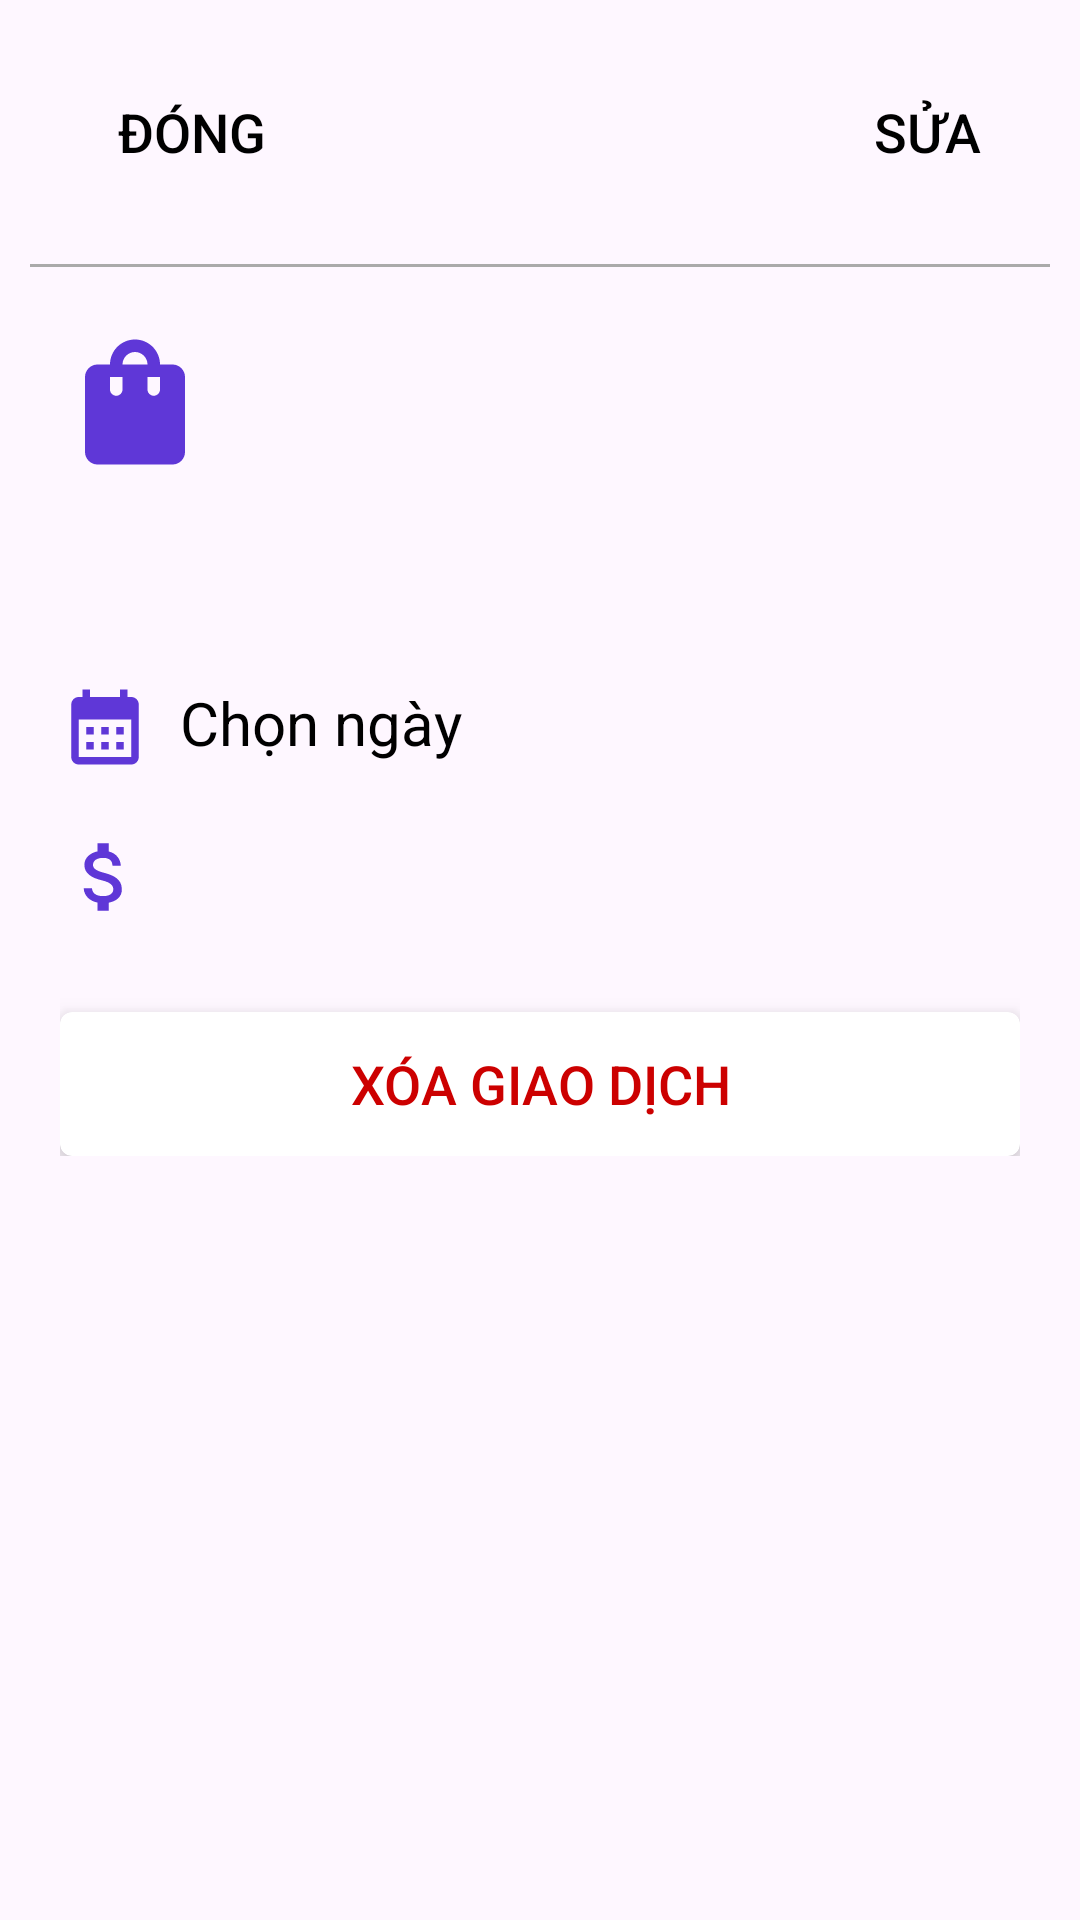

Where icons sit on this 1080px x 1920px app screen, as (x1, y1, x2, y2):
attach money: (83, 843, 122, 911)
calendar month: (71, 689, 139, 765)
shopping bag: (85, 339, 185, 465)
